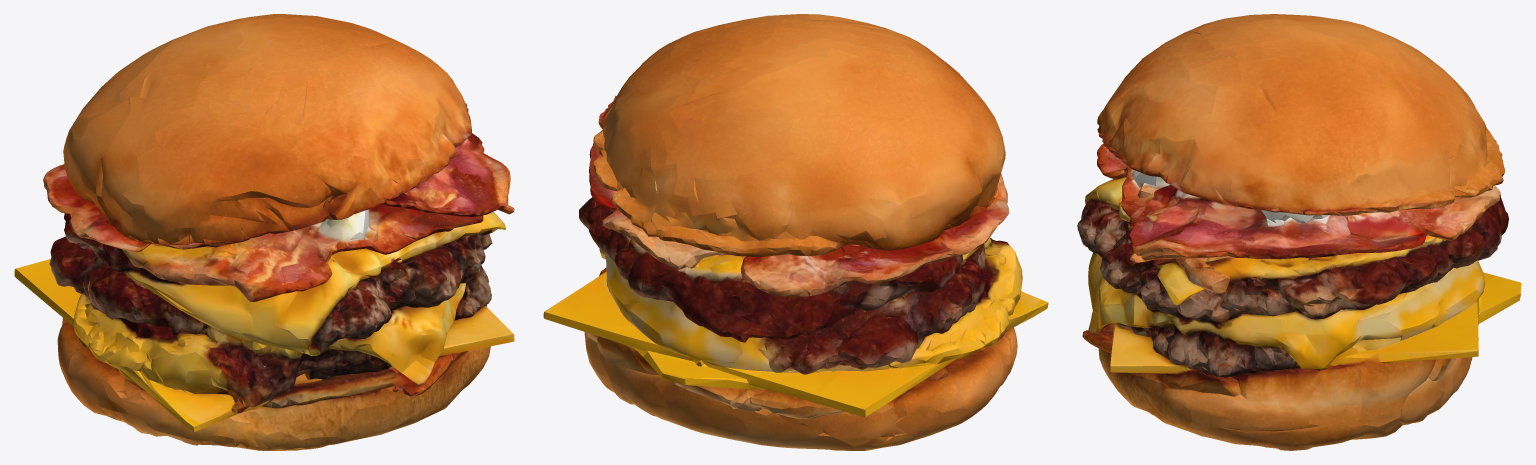
File: gino-doble.glb
The picture shows the model from 3 angles, left to right: view 1: azimuth 30°, elevation 25°; view 2: azimuth 150°, elevation 25°; view 3: azimuth 270°, elevation 25°; orthographic projection. The views are drawn at different scales.
Size of the model in its own units: 1.86 by 1.54 by 1.9.
1 material, 1 textured.
